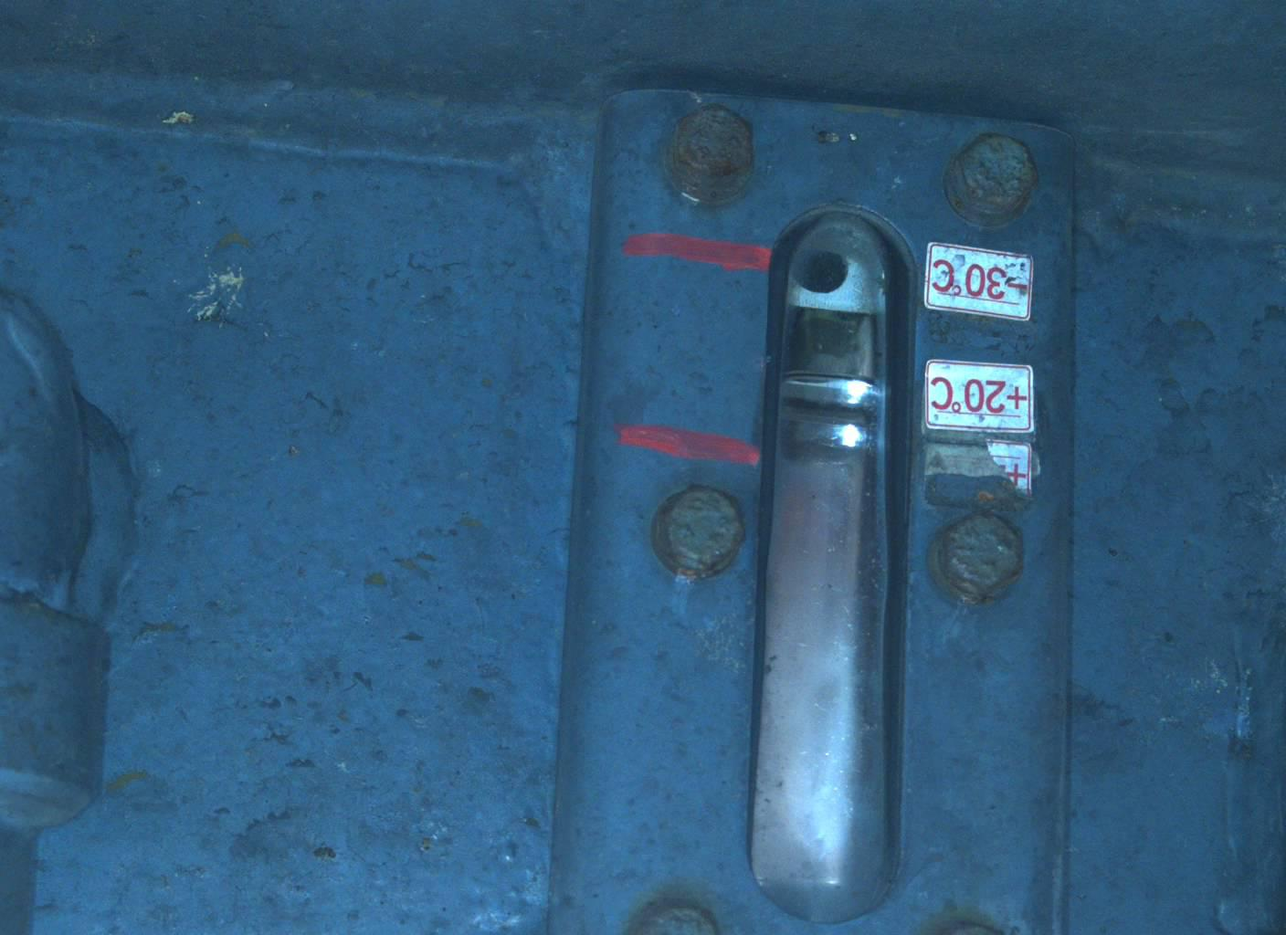oil_level_gauge: (604, 96, 1043, 930)
